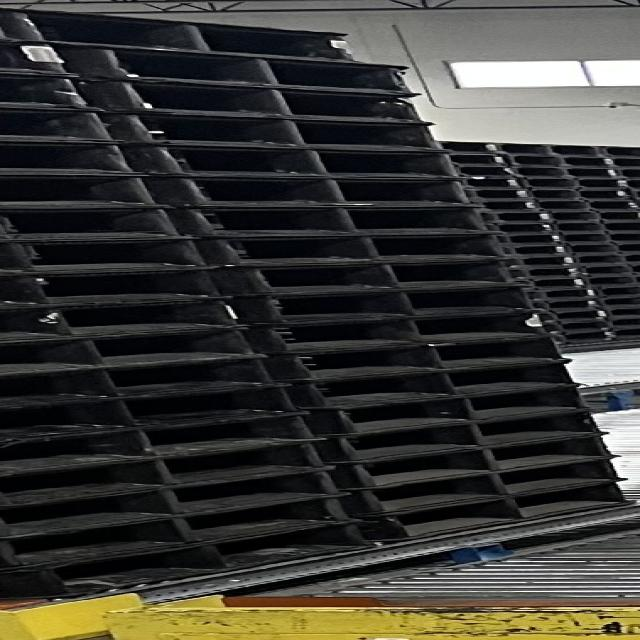igps: (0, 518, 387, 602), (0, 491, 366, 572), (0, 462, 360, 540), (0, 434, 341, 509), (0, 409, 333, 474), (0, 5, 359, 64), (52, 40, 426, 96), (357, 475, 640, 547), (354, 451, 635, 520), (0, 380, 316, 441), (92, 74, 432, 126), (328, 404, 621, 464), (340, 430, 623, 492), (312, 379, 609, 438), (0, 352, 297, 409), (286, 358, 596, 412), (105, 107, 446, 153), (0, 322, 275, 378), (272, 333, 578, 383), (0, 294, 263, 343), (126, 140, 465, 178), (253, 309, 561, 350), (242, 284, 536, 324), (146, 173, 478, 205), (174, 203, 498, 235), (0, 264, 225, 310), (211, 258, 514, 292), (186, 232, 504, 262), (0, 238, 215, 276), (0, 205, 187, 241), (0, 173, 155, 206), (0, 137, 135, 174), (0, 105, 120, 143), (0, 69, 102, 112), (510, 165, 627, 179), (521, 176, 630, 191), (492, 143, 608, 157), (536, 198, 638, 213), (504, 155, 618, 168), (523, 286, 604, 303), (489, 243, 573, 258), (515, 276, 593, 292), (530, 188, 632, 200), (540, 318, 612, 335), (549, 220, 640, 233), (528, 296, 605, 311), (546, 330, 618, 346), (546, 210, 638, 222), (559, 231, 638, 244), (496, 266, 581, 278), (488, 233, 565, 246), (479, 210, 548, 224), (500, 256, 578, 268), (431, 140, 502, 153), (463, 176, 526, 190), (573, 253, 640, 266), (443, 153, 510, 166), (453, 164, 515, 178), (482, 222, 552, 234), (536, 309, 606, 321), (577, 264, 640, 277), (470, 188, 531, 201), (566, 243, 638, 254), (475, 200, 541, 212), (582, 274, 640, 286), (590, 285, 638, 298), (600, 296, 638, 309), (605, 307, 638, 319), (608, 316, 638, 329), (610, 327, 638, 338)
